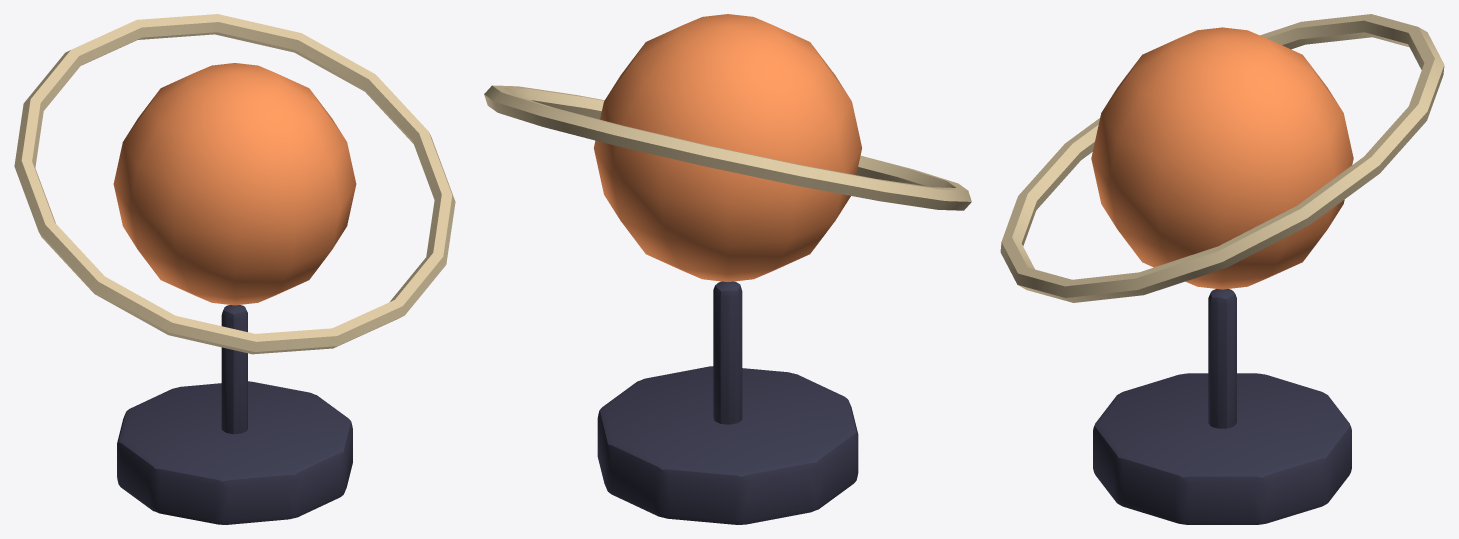
Rendered from RailSpace.fbx.
The picture shows the model from 3 angles, left to right: view 1: azimuth 30°, elevation 25°; view 2: azimuth 150°, elevation 25°; view 3: azimuth 270°, elevation 25°; orthographic projection. The views are drawn at different scales.
Visible parts, largest first — view 1: RailSpace; view 2: RailSpace; view 3: RailSpace.
Boxes of the visible parts, left/top/right/bottom form: RailSpace: left=14, top=14, right=455, bottom=524; RailSpace: left=484, top=14, right=971, bottom=524; RailSpace: left=1000, top=14, right=1444, bottom=524.
Bounding box in the file's own units: 168 × 165 × 152.
